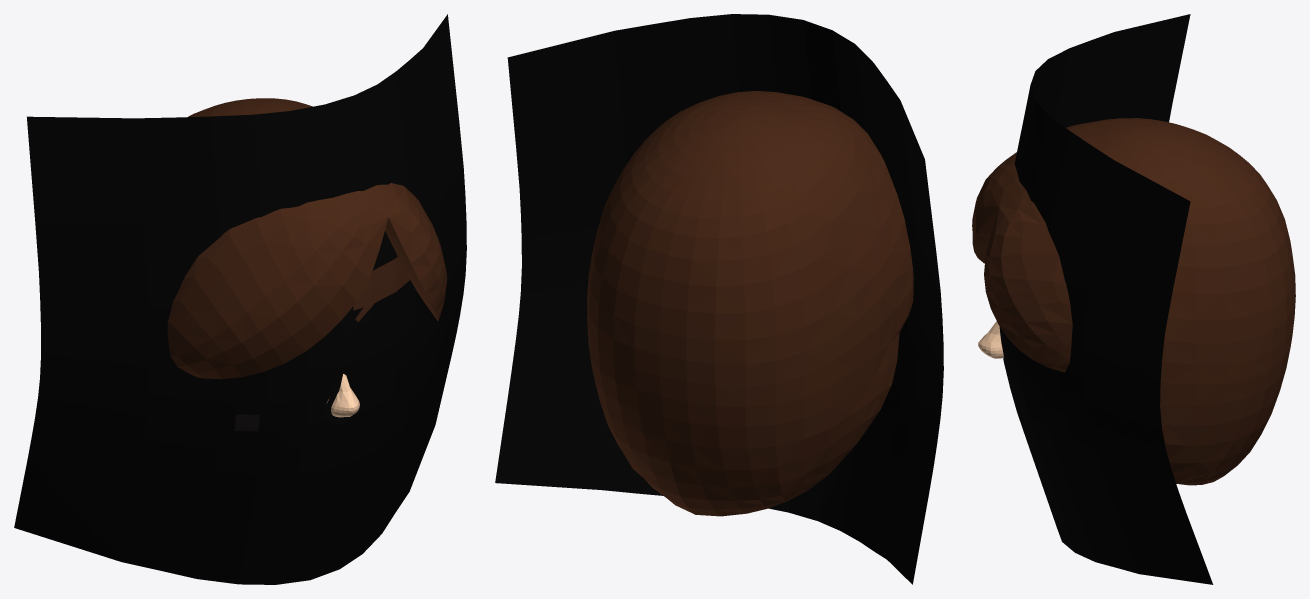
The model's file is def_f.glb.
3 views of the same model, side by side, from view 1: azimuth 30°, elevation 25°; view 2: azimuth 150°, elevation 25°; view 3: azimuth 270°, elevation 25° (orthographic). The views are drawn at different scales.
Visible parts, largest first — view 1: mesh_id4, mesh_id7, mesh_id5; view 2: mesh_id7, mesh_id4; view 3: mesh_id4, mesh_id7, mesh_id5.
Boxes of the visible parts, x1,y1,x2,y2 form: mesh_id4: [14, 14, 466, 584]; mesh_id7: [167, 98, 447, 379]; mesh_id5: [326, 374, 359, 417]; mesh_id7: [587, 91, 913, 516]; mesh_id4: [495, 14, 943, 584]; mesh_id4: [999, 14, 1213, 584]; mesh_id7: [972, 118, 1295, 485]; mesh_id5: [978, 321, 1003, 358].
Bounding box in the file's own units: 0.4689 × 0.512 × 0.3385.
6 materials, 6 textured.
